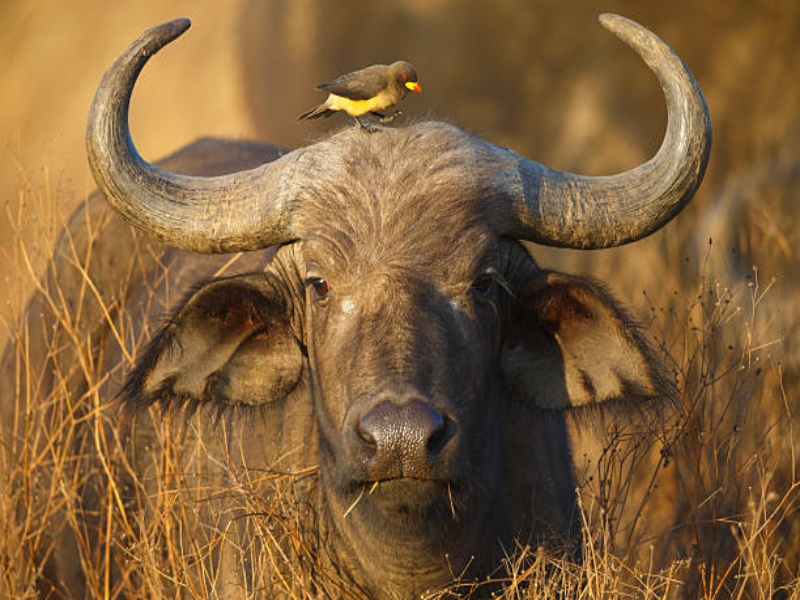buffalo: (60, 28, 740, 597)
